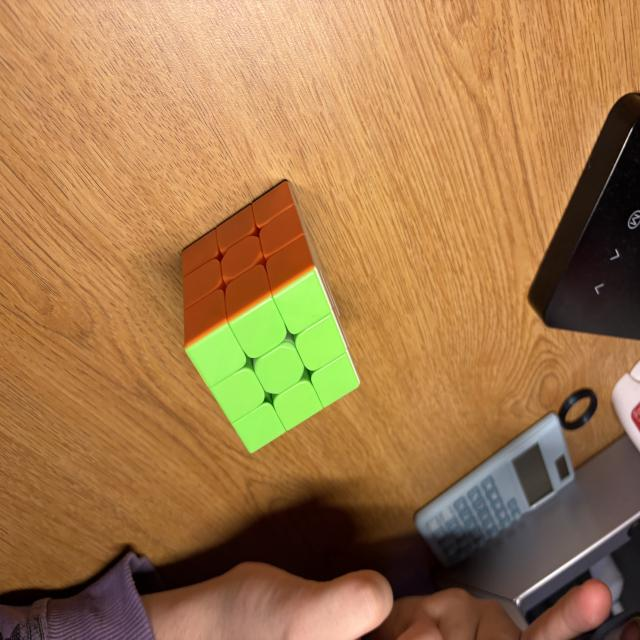Rubiks Cube: (177, 181, 362, 456)
